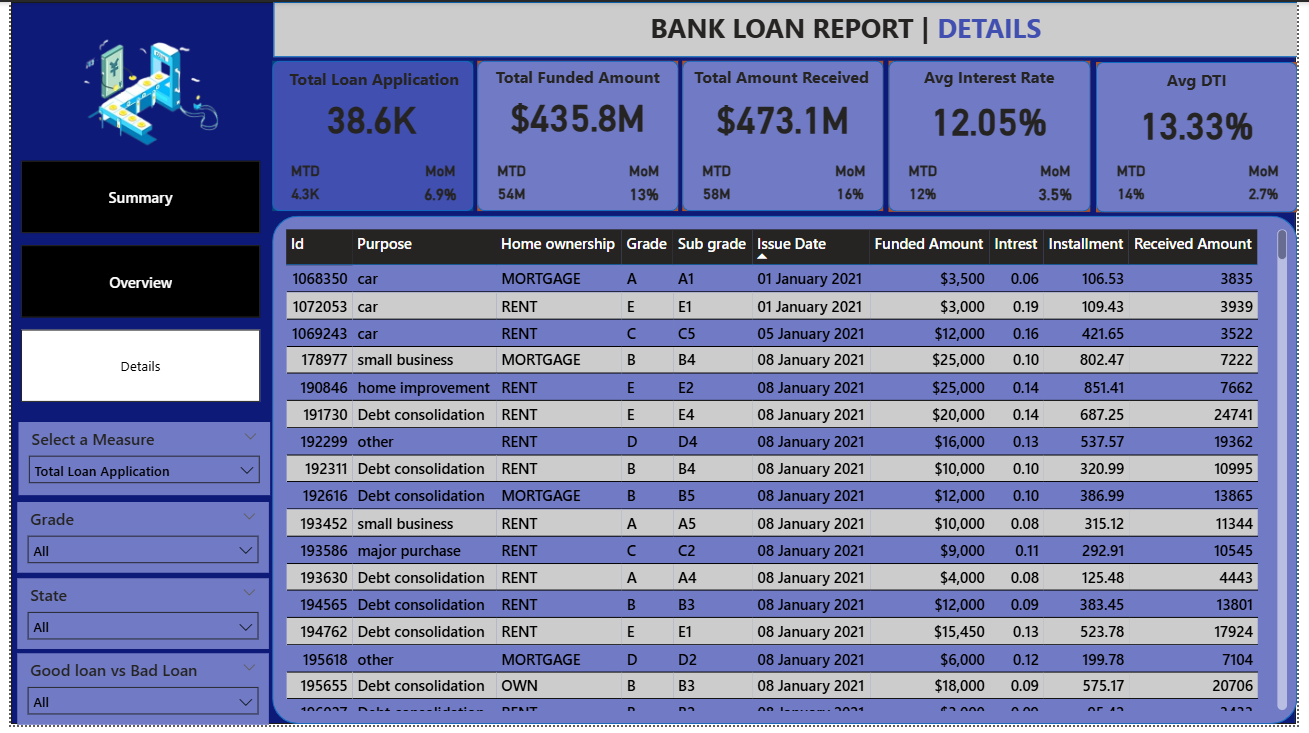

What the dashboard file says about the page in this screenshot:
{"tool":"powerbi","page":{"name":"Details","canvas":[1280,720],"ordinal":2},"visuals":[{"type":"shape","box":[0,0,1278.6,718.6],"z":0},{"type":"shape","box":[260,212.9,1020,505.7],"z":1000},{"type":"shape","box":[260.7,0,1020,54.9],"z":2000},{"type":"shape","box":[260,58.8,200.4,149.6],"z":3000},{"type":"textbox","box":[380.1,2.7,900.2,52.1],"z":4000},{"type":"card","title":"MTD","fields":{"Values":["financial_loan.MTD Loan Application"]},"box":[266.2,159.2,53.5,49.4],"z":5000},{"type":"card","title":"Total Loan Applications","fields":{"Values":["financial_loan.Total Loan Application"]},"box":[259.3,91.9,200.3,49.4],"z":6000},{"type":"card","title":"MoM","fields":{"Values":["financial_loan.MoM Loan Application"]},"box":[400.7,159.2,53.5,49.4],"z":7000},{"type":"textbox","box":[260.8,59.2,200.4,37.3],"z":8000},{"type":"shape","box":[464.2,58.8,200.4,149.6],"z":9000},{"type":"card","title":"MTD","fields":{"Values":["financial_loan.MTD Funded Amount"]},"box":[472,159.2,53.5,49.4],"z":10000},{"type":"card","title":"Total Loan Applications","fields":{"Values":["financial_loan.Total Funded Amount"]},"box":[464.4,91.1,200,48.9],"z":11000},{"type":"card","title":"MoM","fields":{"Values":["financial_loan.MoM Funded Amount"]},"box":[603.8,159.2,53.5,49.4],"z":12000},{"type":"textbox","box":[464.4,58.9,200,37.8],"z":13000},{"type":"shape","box":[668.5,58.8,200.4,149.6],"z":14000},{"type":"card","title":"MTD","fields":{"Values":["financial_loan.MTD Amount Received"]},"box":[675.1,159.2,53.5,49.4],"z":15000},{"type":"card","title":"Total Loan Applications","fields":{"Values":["Sum(financial_loan.total_payment)"]},"box":[668.3,91.9,200.3,49.4],"z":16000},{"type":"card","title":"MoM","fields":{"Values":["financial_loan.MoM Amount Received"]},"box":[808.2,159.2,53.5,49.4],"z":17000},{"type":"textbox","box":[666.9,59,200.3,37],"z":18000},{"type":"shape","box":[872.7,58.8,201.2,150],"z":19000},{"type":"card","title":"MTD","fields":{"Values":["financial_loan.MTD Interest Rate"]},"box":[881,159.2,53.5,49.4],"z":20000},{"type":"card","title":"Total Loan Applications","fields":{"Values":["Avg(financial_loan.int_rate)"]},"box":[872.7,94.7,200.3,49.4],"z":21000},{"type":"card","title":"MoM","fields":{"Values":["financial_loan.MoM Interest Rate"]},"box":[1012.7,159.2,53.5,49.4],"z":22000},{"type":"textbox","box":[872.7,59,200.3,37],"z":23000},{"type":"shape","box":[1079.6,59.2,200.4,149.6],"z":24000},{"type":"card","title":"MTD","fields":{"Values":["financial_loan.MTD DTI"]},"box":[1086.8,159.2,54.9,49.4],"z":25000},{"type":"card","title":"Total Loan Applications","fields":{"Values":["Avg(financial_loan.dti)"]},"box":[1079.4,98.7,200.3,49.4],"z":26000},{"type":"card","title":"MoM","fields":{"Values":["financial_loan.MoM DTI"]},"box":[1218.5,159.2,54.9,49.4],"z":27000},{"type":"textbox","box":[1079.6,60.4,200.3,37],"z":28000},{"type":"slicer","fields":{"Values":["financial_loan.address_state"]},"box":[5.7,572.9,250,70],"z":29000},{"type":"slicer","fields":{"Values":["financial_loan.Good loan vs Bad Loan"]},"box":[5.7,648.6,250,71.4],"z":30000},{"type":"slicer","fields":{"Values":["financial_loan.sub_grade"]},"box":[5.7,497.1,250,70],"z":31000},{"type":"slicer","fields":{"Values":["Select a Measure.Select a Measure"]},"box":[7.1,418.6,250,72.9],"z":32000},{"type":"tableEx","fields":{"Values":["financial_loan.id","financial_loan.purpose","financial_loan.home_ownership","financial_loan.grade","financial_loan.sub_grade","financial_loan.issue_date","financial_loan.Total Funded Amount","Sum(financial_loan.int_rate)","Sum(financial_loan.installment)","financial_loan.Total Received Amount"]},"box":[267.1,221.4,1007.1,488.6],"z":33000},{"type":"pageNavigator","box":[10,158.6,238.6,240],"z":33001},{"type":"image","box":[41.4,1.4,175.7,178.6],"z":33002}]}

Visuals, with their boxes in screenshot pixels (x1, y1, x2, y2), scaled from the page's 1280x720 canvas onto the 1309x733 screenshot:
shape: (0,0,1308,732)
shape: (266,217,1308,732)
shape: (267,0,1308,56)
shape: (266,60,471,212)
textbox: (389,3,1308,56)
"MTD" card: (272,162,327,212)
"Total Loan Applications" card: (265,94,470,144)
"MoM" card: (410,162,464,212)
textbox: (267,60,472,98)
shape: (475,60,680,212)
"MTD" card: (483,162,537,212)
"Total Loan Applications" card: (475,93,679,143)
"MoM" card: (617,162,672,212)
textbox: (475,60,679,98)
shape: (684,60,889,212)
"MTD" card: (690,162,745,212)
"Total Loan Applications" card: (683,94,888,144)
"MoM" card: (827,162,881,212)
textbox: (682,60,887,98)
shape: (892,60,1098,213)
"MTD" card: (901,162,956,212)
"Total Loan Applications" card: (892,96,1097,147)
"MoM" card: (1036,162,1090,212)
textbox: (892,60,1097,98)
shape: (1104,60,1308,213)
"MTD" card: (1111,162,1168,212)
"Total Loan Applications" card: (1104,100,1308,151)
"MoM" card: (1246,162,1302,212)
textbox: (1104,61,1308,99)
slicer - financial_loan.address_state: (6,583,261,655)
slicer - financial_loan.Good loan vs Bad Loan: (6,660,261,732)
slicer - financial_loan.sub_grade: (6,506,261,577)
slicer - Select a Measure.Select a Measure: (7,426,263,500)
tableEx - financial_loan.id x financial_loan.purpose: (273,225,1303,723)
pageNavigator: (10,161,254,406)
image: (42,1,222,183)
